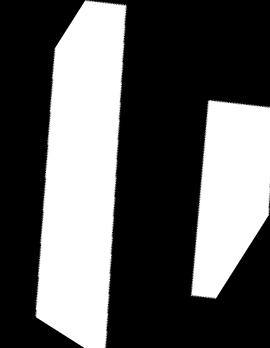parkingspot: (36, 0, 127, 348), (191, 100, 270, 299)
